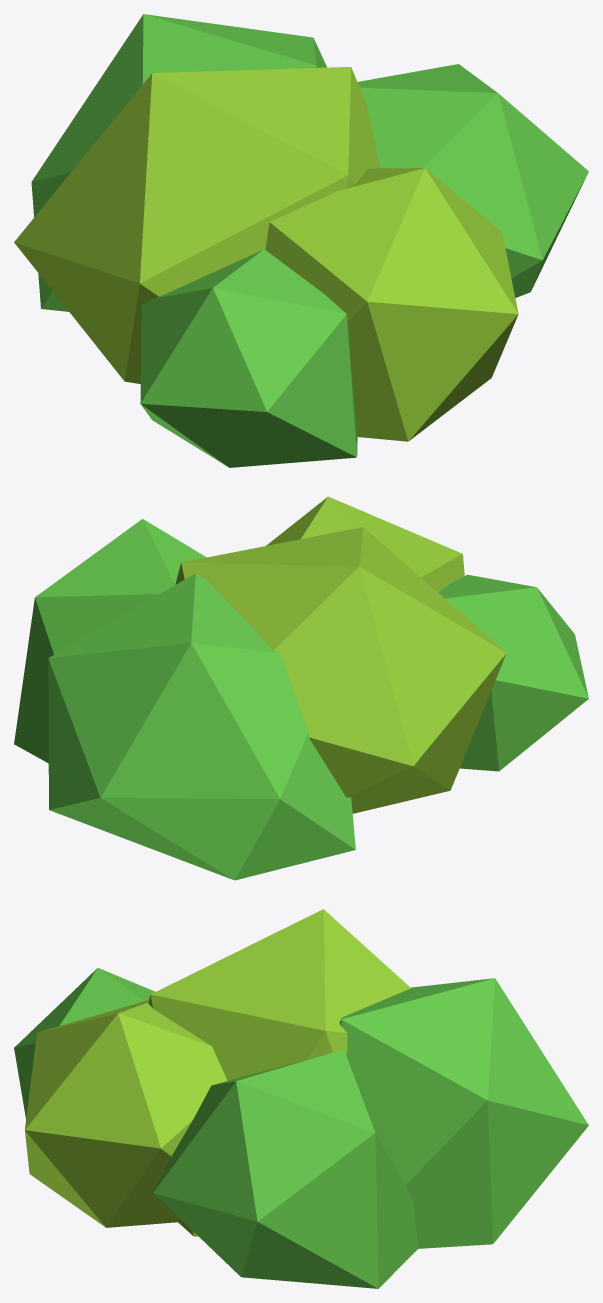
The model's file is Bush_1fbx.fbx.
3 views of the same model, one above another, from view 1: azimuth 30°, elevation 25°; view 2: azimuth 150°, elevation 25°; view 3: azimuth 270°, elevation 25° (orthographic). The views are drawn at different scales.
Visible parts, largest first — view 1: Bush 4; view 2: Bush 4; view 3: Bush 4.
Boxes of the visible parts, <box> form: Bush 4: <box>14,14,588,467</box>; Bush 4: <box>14,496,588,880</box>; Bush 4: <box>14,909,588,1288</box>.
Bounding box in the file's own units: 197 × 94.97 × 212.
